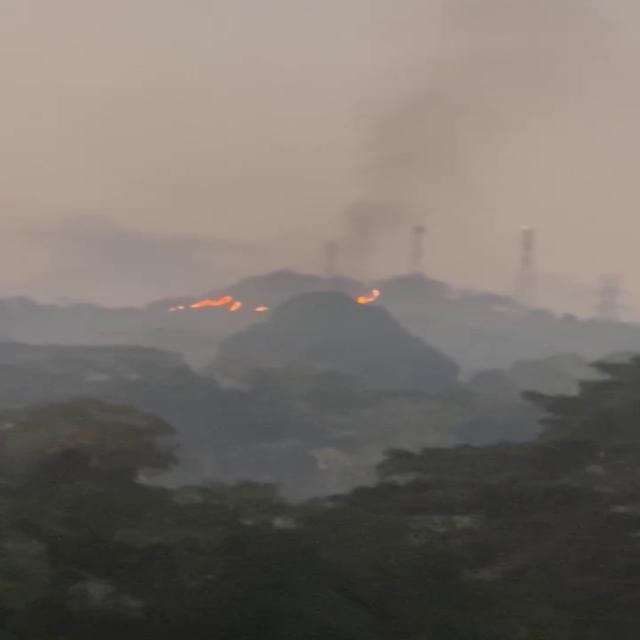Fire: (178, 291, 248, 313), (352, 284, 384, 308)
Smoke: (285, 0, 640, 290)
